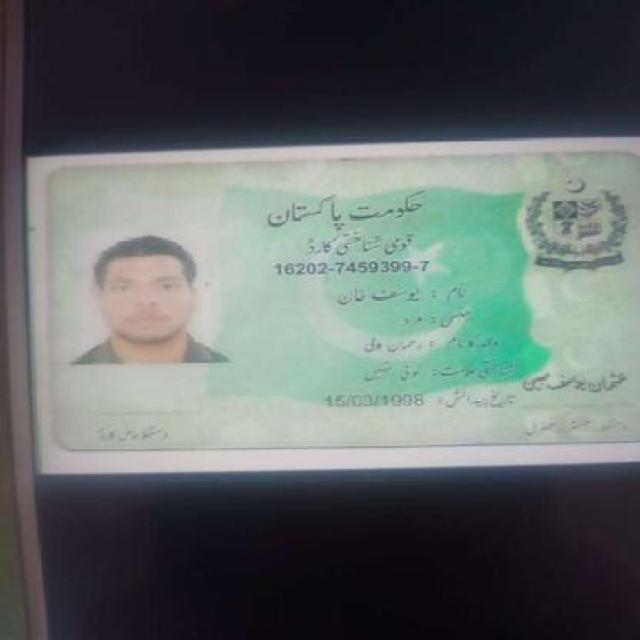Front: (24, 148, 636, 468)
